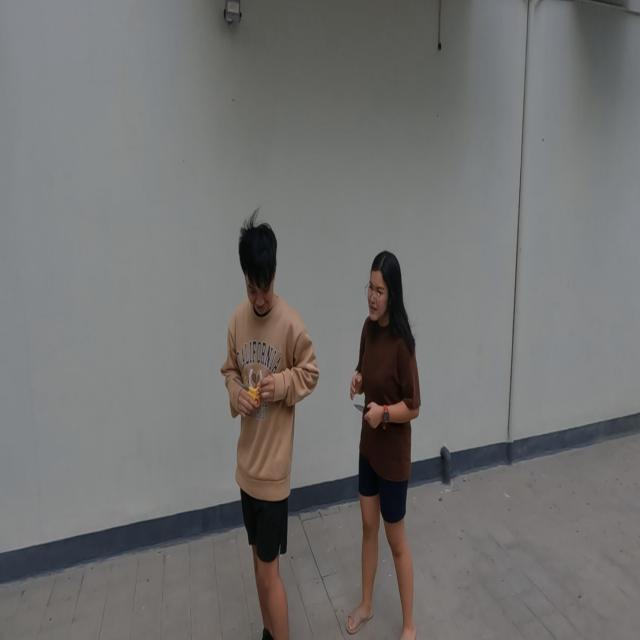scissor: (232, 378, 261, 407)
